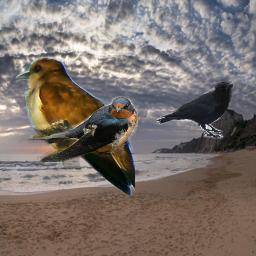Crow: (156, 82, 233, 139)
Cuckoo: (16, 57, 135, 198)
Swallow: (19, 96, 138, 162)
